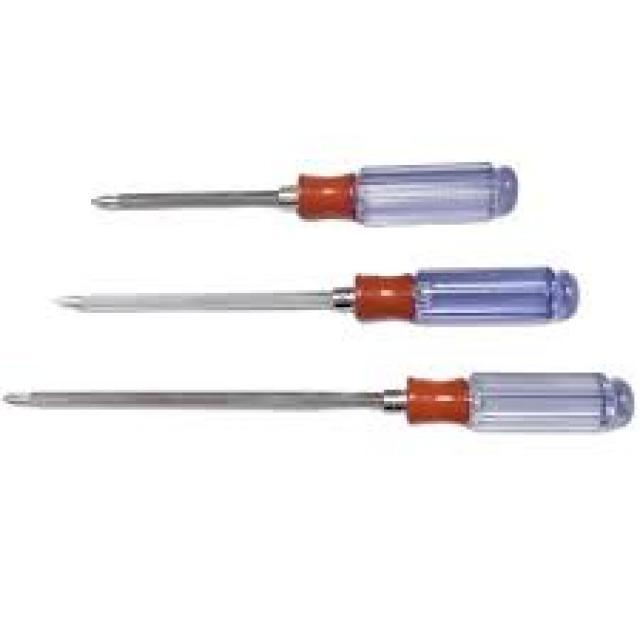screwdriver: (4, 367, 636, 435), (49, 260, 582, 332), (86, 154, 520, 230)
